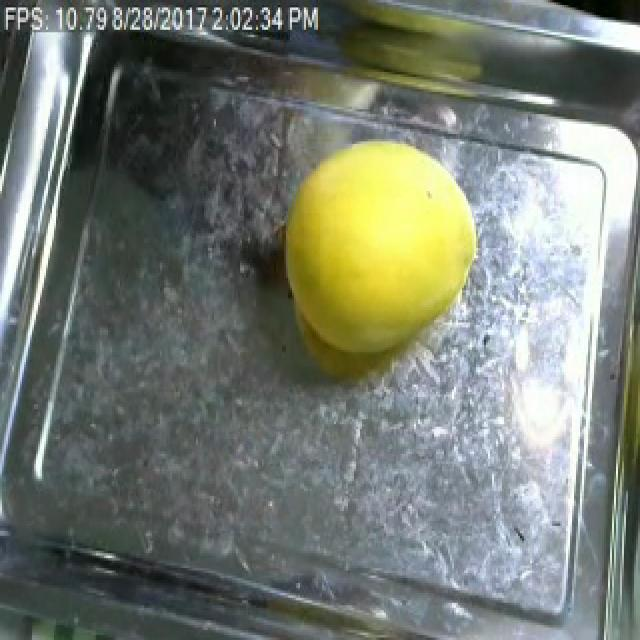fruit: (254, 112, 508, 382), (324, 0, 506, 119)
